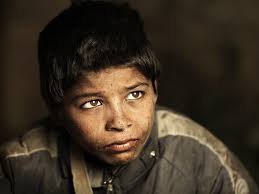noMask: (31, 5, 161, 179)
